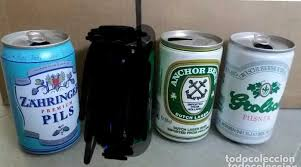can: (1, 25, 84, 165), (153, 27, 227, 147), (227, 28, 299, 148)
